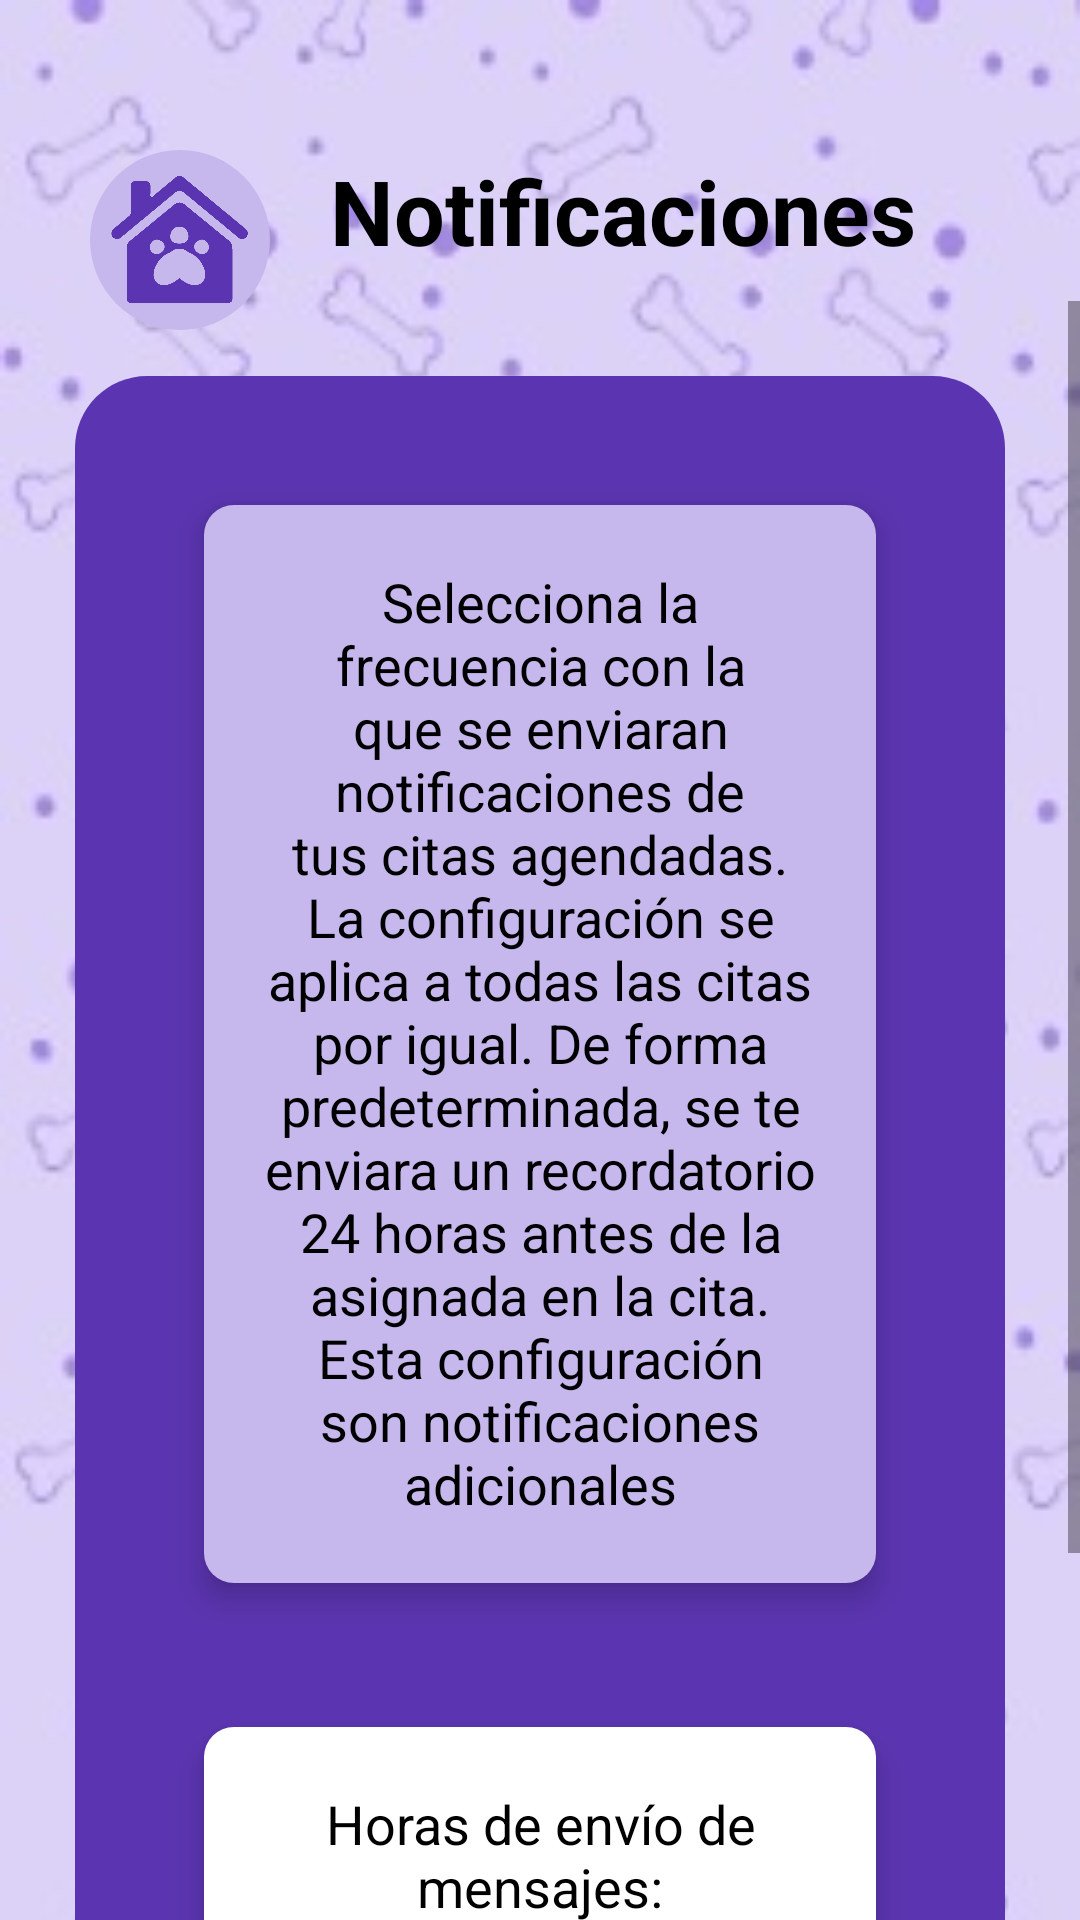

Where to tap for icons on this 1080×1920 app screen, as point (x, y):
Volver al inicio: point (180, 240)
